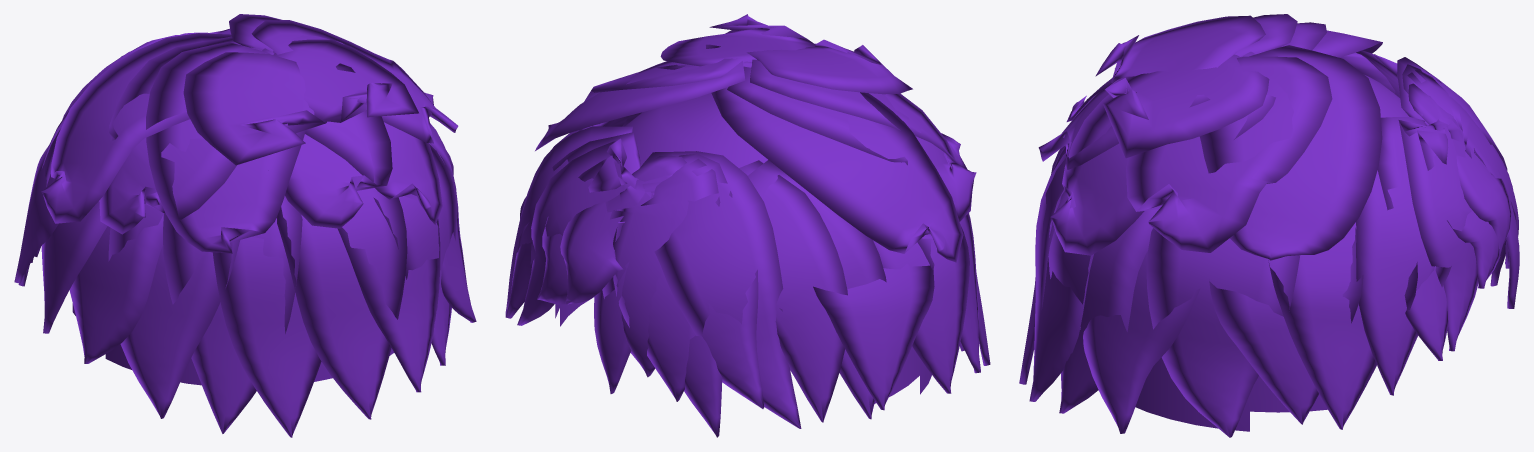
The model's file is vane_hair.fbx.
The picture shows the model from 3 angles, left to right: view 1: azimuth 30°, elevation 25°; view 2: azimuth 150°, elevation 25°; view 3: azimuth 270°, elevation 25°; orthographic projection. The views are drawn at different scales.
Parts seen in each view (by area): view 1: VaneHair; view 2: VaneHair; view 3: VaneHair.
Boxes of the visible parts, box(x1,y1,x2,y2) form: VaneHair: box(14, 14, 476, 437); VaneHair: box(505, 14, 990, 437); VaneHair: box(1019, 14, 1519, 437).
Bounding box in the file's own units: 177 × 131 × 176.
